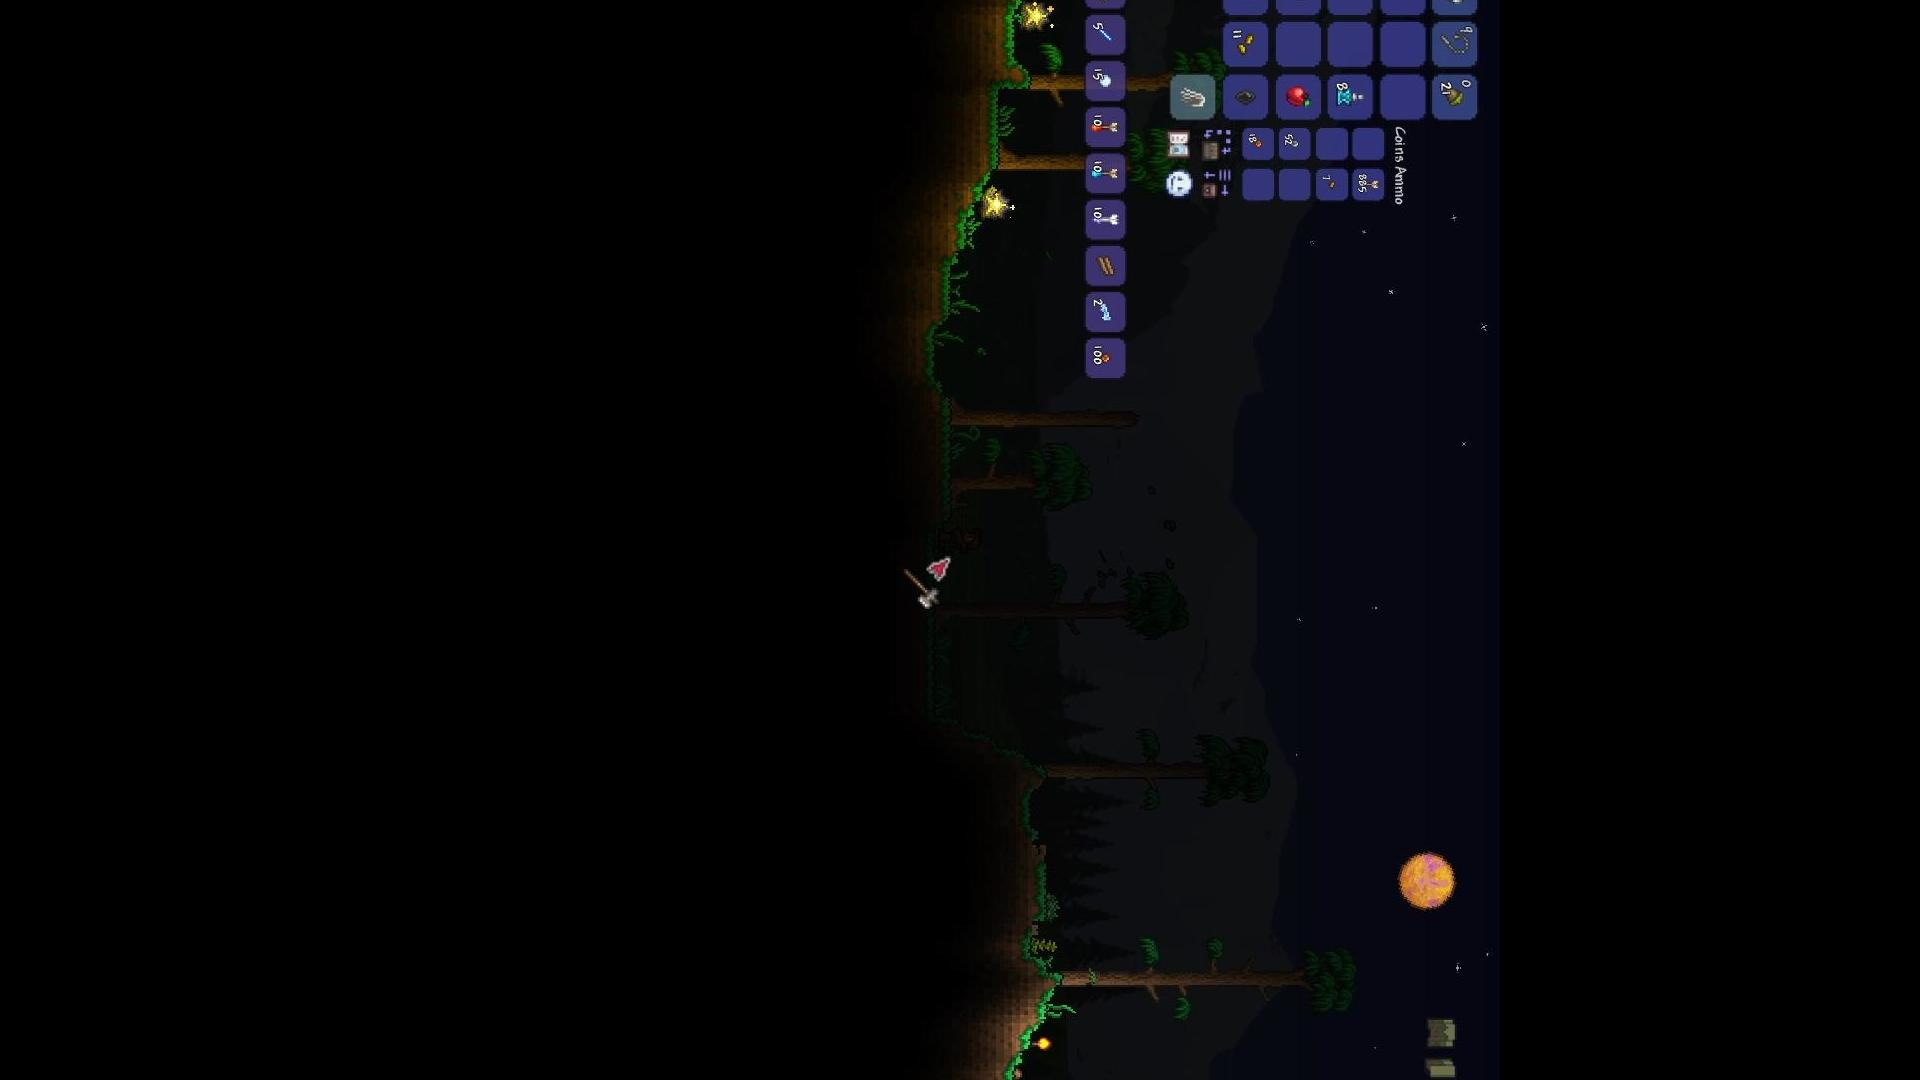potion: (1337, 87, 1366, 107)
star: (1019, 0, 1050, 26), (981, 189, 1009, 216)
